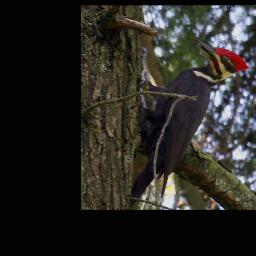Woodpecker: (126, 38, 251, 209)
